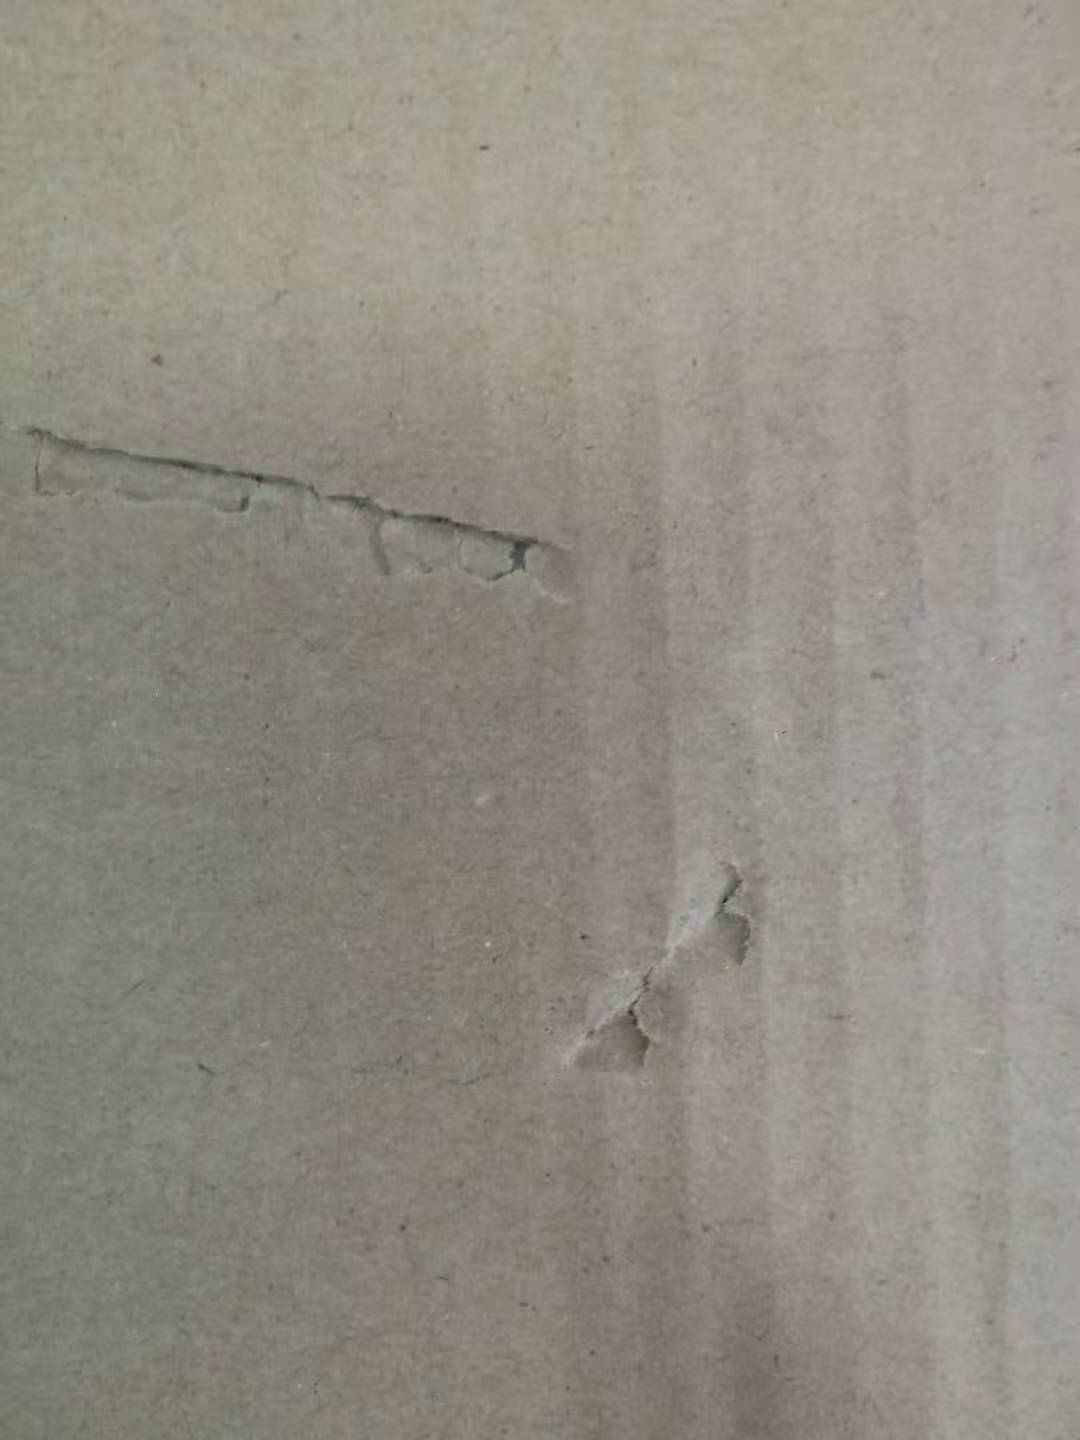defect: (1, 372, 615, 658), (517, 835, 809, 1113)
